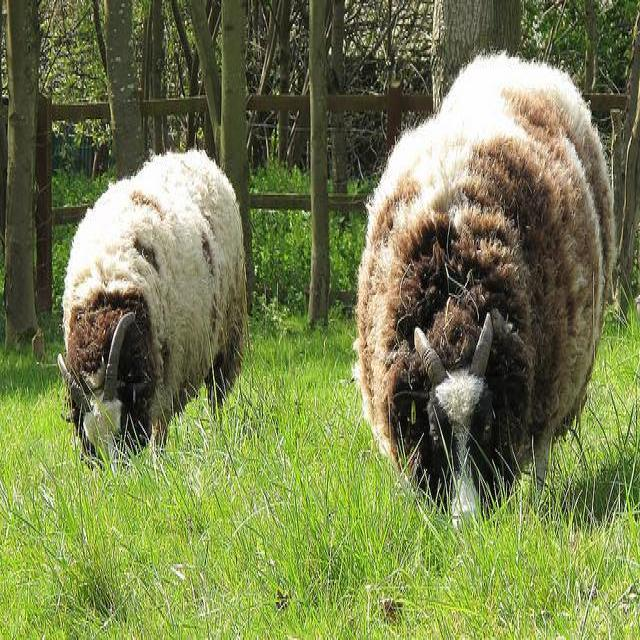Sheep: (358, 51, 616, 542), (58, 148, 252, 485)
